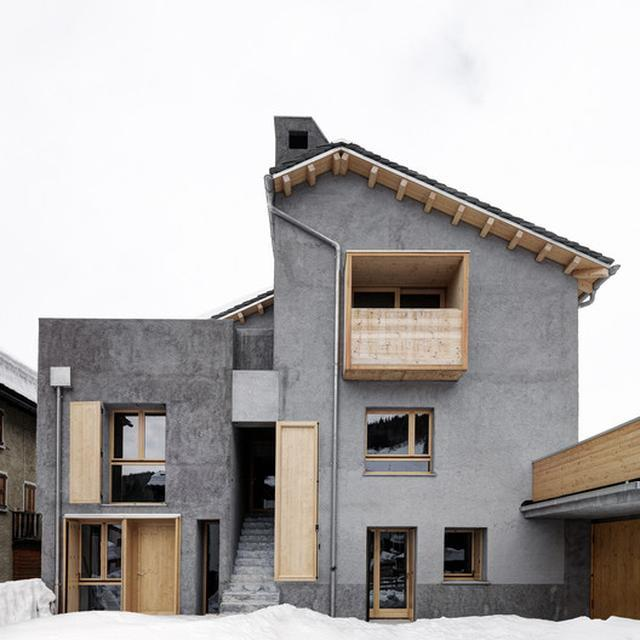building: (37, 113, 616, 626)
